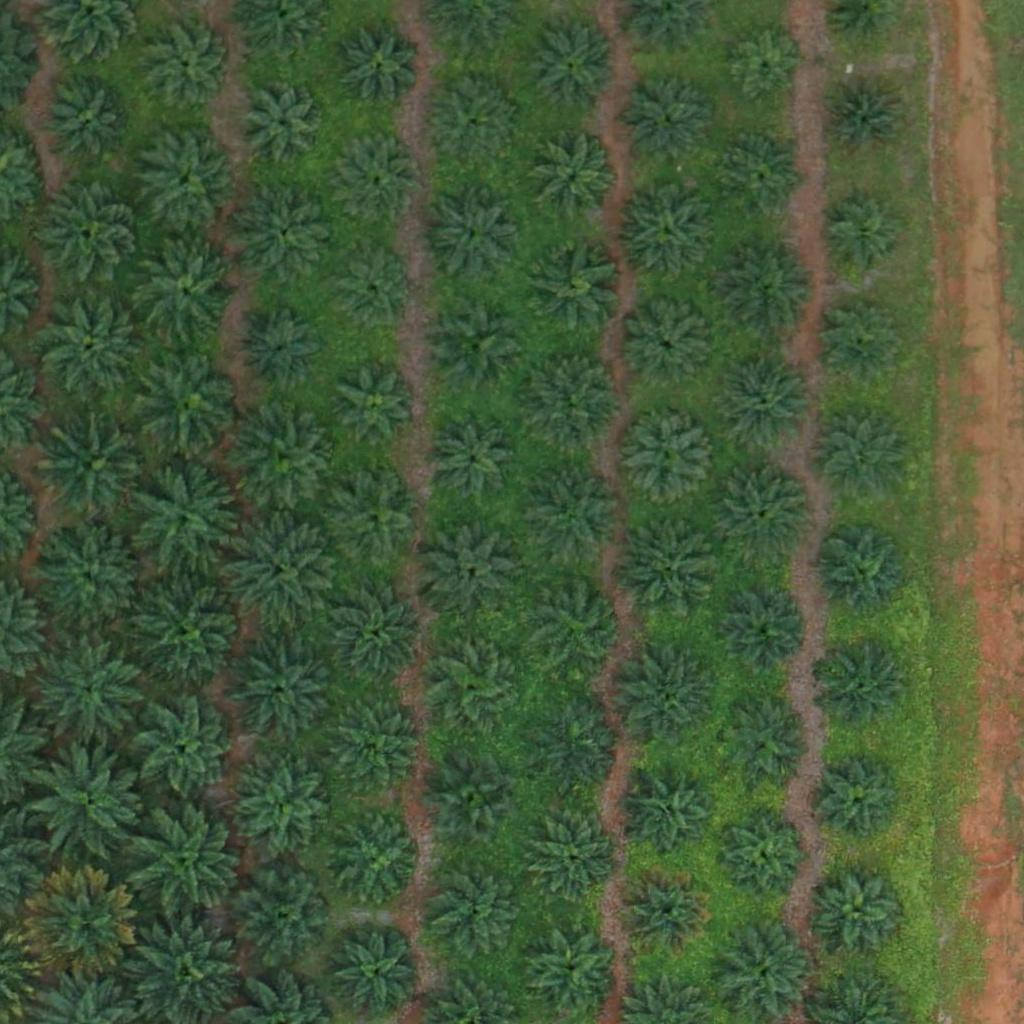Kelapa_Sawit: (127, 462, 240, 575), (225, 514, 338, 627), (228, 634, 341, 747), (25, 868, 138, 981), (34, 288, 146, 401), (41, 415, 153, 528), (34, 521, 146, 634), (34, 640, 146, 753), (31, 746, 143, 859), (134, 580, 246, 693), (135, 804, 247, 917), (237, 182, 337, 283), (136, 129, 236, 230), (136, 246, 236, 347), (40, 183, 140, 284), (135, 700, 235, 801), (327, 695, 427, 796), (427, 294, 527, 395), (522, 347, 622, 448), (527, 468, 627, 569), (618, 407, 718, 508), (617, 518, 717, 619), (618, 651, 718, 752), (720, 352, 820, 453), (713, 463, 813, 564), (812, 522, 912, 623), (522, 922, 622, 1023), (428, 858, 528, 959), (234, 866, 334, 967), (716, 241, 816, 341), (616, 180, 716, 280), (522, 237, 622, 337), (422, 184, 522, 284), (137, 350, 237, 450), (235, 410, 335, 510), (323, 468, 423, 568), (421, 516, 521, 616), (530, 577, 630, 677), (529, 697, 629, 797), (624, 303, 712, 392), (818, 196, 906, 284), (721, 133, 809, 221), (622, 77, 710, 165), (44, 78, 132, 166), (429, 417, 517, 505), (428, 639, 516, 727), (431, 758, 519, 846), (718, 587, 806, 675), (820, 643, 908, 731), (816, 757, 904, 845), (817, 867, 905, 955), (531, 814, 619, 902), (822, 77, 909, 165), (527, 25, 614, 113), (530, 136, 617, 224), (430, 85, 517, 173), (242, 77, 329, 165), (144, 21, 231, 109), (240, 764, 327, 852), (335, 588, 422, 676), (722, 699, 809, 787), (818, 297, 905, 385), (818, 412, 905, 500), (627, 771, 714, 859), (719, 810, 806, 898), (623, 868, 710, 956), (331, 817, 418, 905), (334, 932, 421, 1020), (344, 31, 419, 107), (342, 142, 417, 218), (245, 312, 320, 388), (339, 365, 414, 441), (730, 31, 805, 106), (334, 257, 409, 332)
